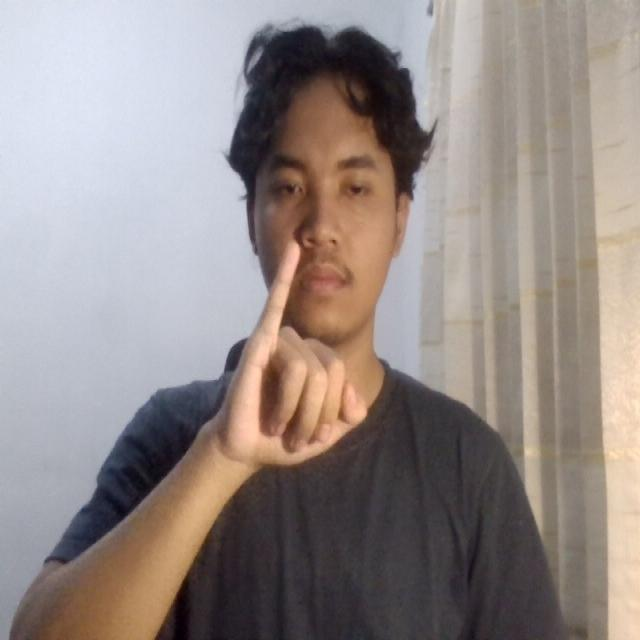Hello: (178, 223, 387, 497)
